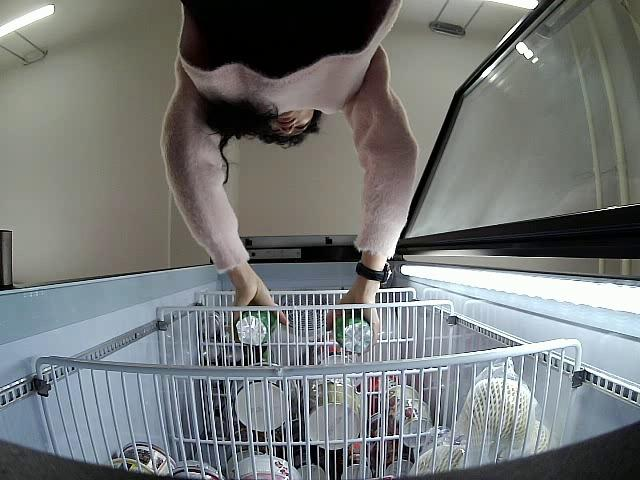00_hand: (325, 286, 381, 355), (232, 276, 291, 326)
18_trevi: (335, 314, 372, 354), (236, 310, 276, 344)
